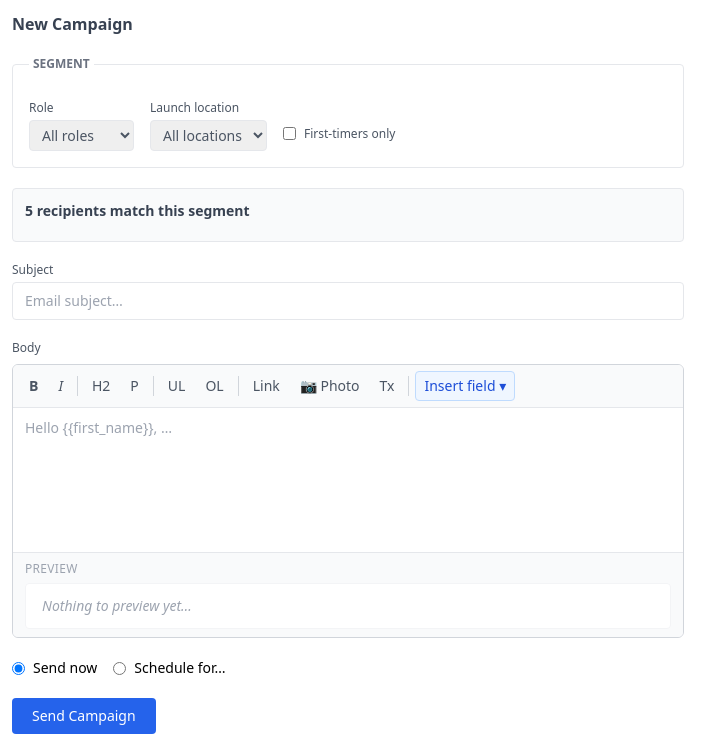
Test case: CampaignComposer › live preview count updates when segment changes
Expected: the text "5 recipients match this segment" is shown, 25,201 -> 250,220
# Change role (first combobox)
Select "Attendees" in the dropdown labelled "Role" at [82, 136], box 29,120 -> 134,151
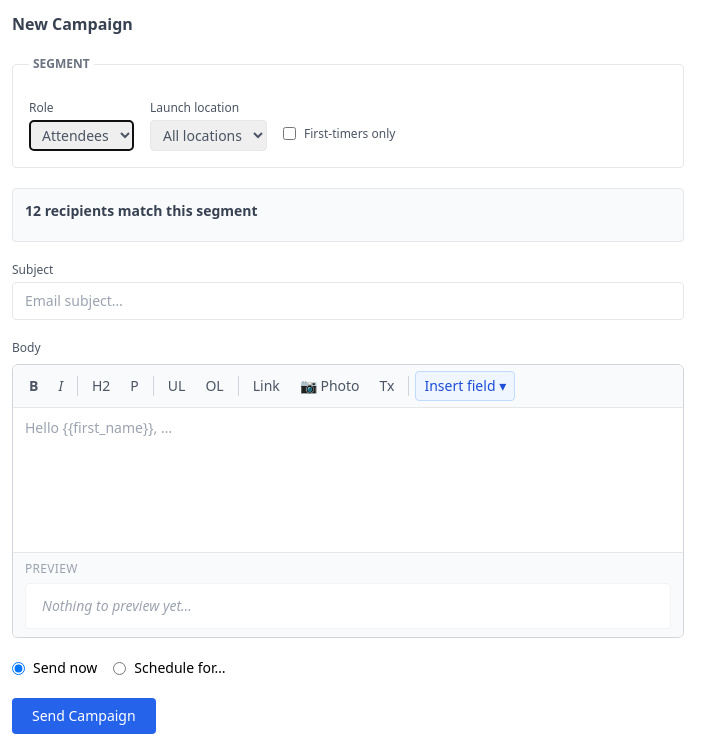
Result: the text "12 recipients match this segment" is shown at 25,201 -> 258,220
